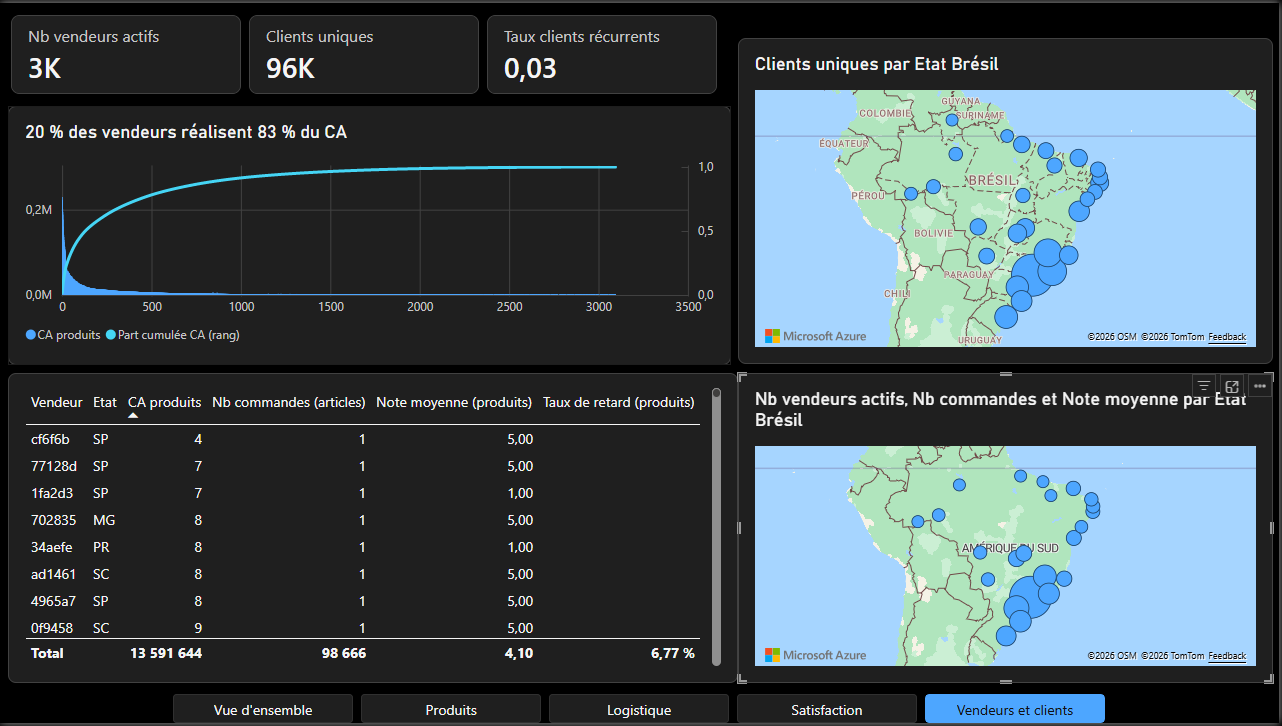

This screenshot's page, from the dashboard's own definition file:
{"tool":"powerbi","page":{"name":"Vendeurs et clients","canvas":[1280,720],"ordinal":4},"visuals":[{"type":"cardVisual","fields":{"Data":["_Mesures.Nb vendeurs actifs","_Mesures.Clients uniques","_Mesures.Taux clients récurrents"]},"box":[10.8,11.9,706.9,78.8],"z":0},{"type":"lineClusteredColumnComboChart","title":"20 % des vendeurs réalisent 83 % du CA ","fields":{"Category":["dim_vendeur.Rang vendeur"],"Y":["_Mesures.CA produits"],"Y2":["dim_vendeur.Part cumulée CA (rang)"]},"box":[7.6,102.5,723.1,259],"z":1000},{"type":"tableEx","fields":{"Values":["dim_vendeur.Vendeur","dim_vendeur.etat","_Mesures.CA produits","_Mesures.Nb commandes (articles)","_Mesures.Note moyenne (produits)","_Mesures.Taux de retard (produits)"]},"box":[7.8,370.6,722.7,309.3],"z":2000},{"type":"azureMap","fields":{"Category":["dim_client.Etat Brésil"],"Size":["_Mesures.Clients uniques"]},"box":[738.2,34.5,534.3,326.7],"z":3000},{"type":"azureMap","title":"Vendeurs actifs par État","fields":{"Category":["dim_vendeur.Etat Brésil"],"Size":["_Mesures.Nb vendeurs actifs"]},"box":[738.2,370.2,534.3,309.4],"z":4000},{"type":"pageNavigator","box":[172.7,690.7,934.6,29.1],"z":5000}]}

Visuals, with their boxes on the page's 1280x720 design canvas (x1, y1, x2, y2). These are canvas units, not pixel positions in the 1282x726 screenshot, which may show the page scaled, cropped or inside an application window:
cardVisual - _Mesures.Nb vendeurs actifs x _Mesures.Clients uniques: detection(11, 12, 718, 91)
"20 % des vendeurs réalisent 83 % du CA " lineClusteredColumnComboChart: detection(8, 102, 731, 362)
tableEx - dim_vendeur.Vendeur x dim_vendeur.etat: detection(8, 371, 730, 680)
azureMap - dim_client.Etat Brésil x _Mesures.Clients uniques: detection(738, 34, 1272, 361)
"Vendeurs actifs par État" azureMap: detection(738, 370, 1272, 680)
pageNavigator: detection(173, 691, 1107, 720)
